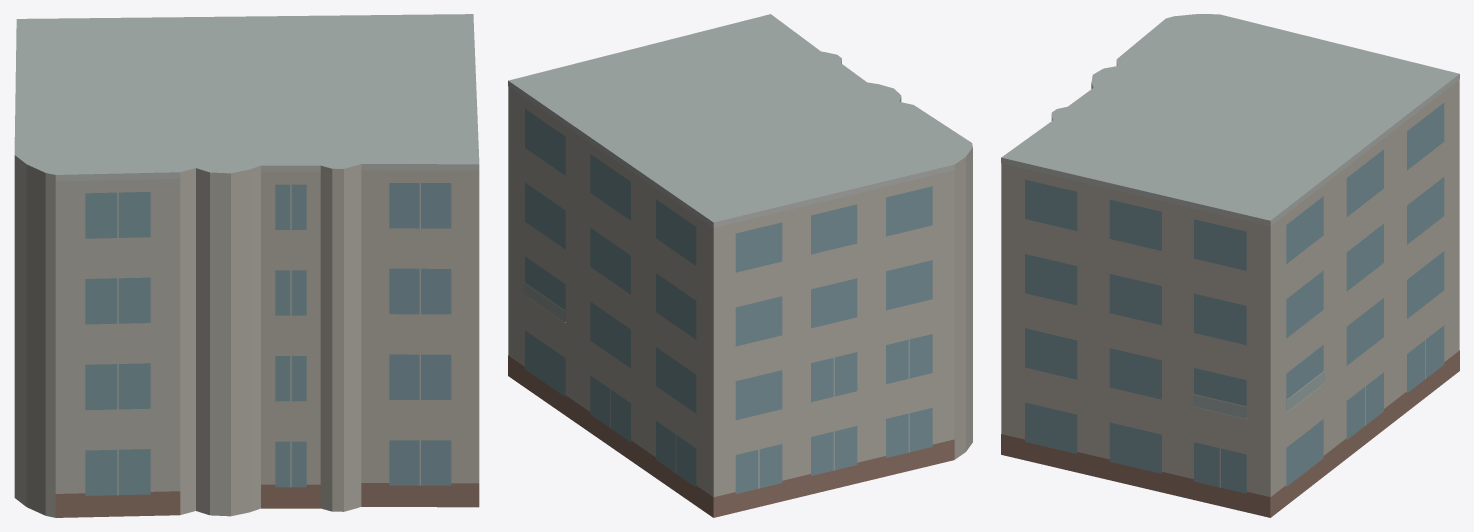
File: survey-upis-32706618.glb
The picture shows the model from 3 angles, left to right: view 1: azimuth 30°, elevation 25°; view 2: azimuth 150°, elevation 25°; view 3: azimuth 270°, elevation 25°; orthographic projection. The views are drawn at different scales.
Visible parts, largest first — view 1: survey-upis-32706618.tmp; view 2: survey-upis-32706618.tmp; view 3: survey-upis-32706618.tmp.
Part boxes in pixels (<box>): survey-upis-32706618.tmp: <box>14,14,479,517</box>; survey-upis-32706618.tmp: <box>508,14,972,517</box>; survey-upis-32706618.tmp: <box>1001,14,1459,517</box>.
Bounding box in the file's own units: 19.11 × 12.8 × 17.91.
